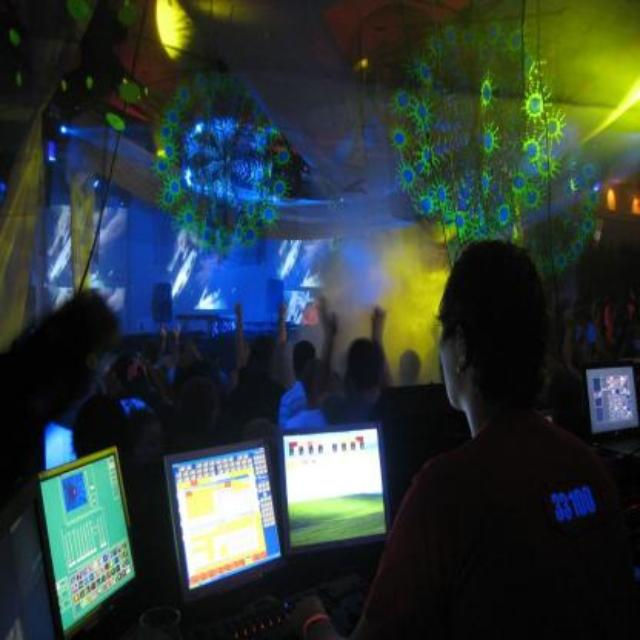Flat-Panel-Monitor: (37, 431, 410, 621)
